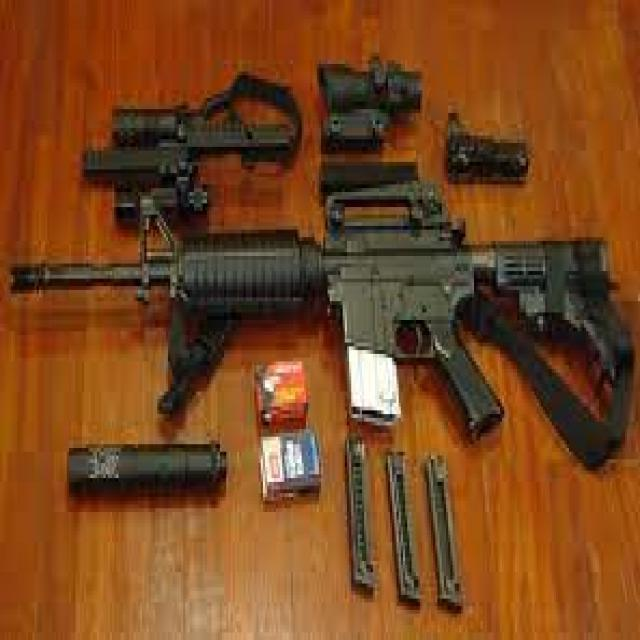m16: (22, 213, 540, 430)
